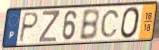6: (62, 10, 78, 42)
B: (78, 7, 101, 41)
C: (99, 9, 120, 39)
O: (119, 6, 141, 40)
P: (17, 12, 40, 44)
Z: (37, 10, 60, 44)
